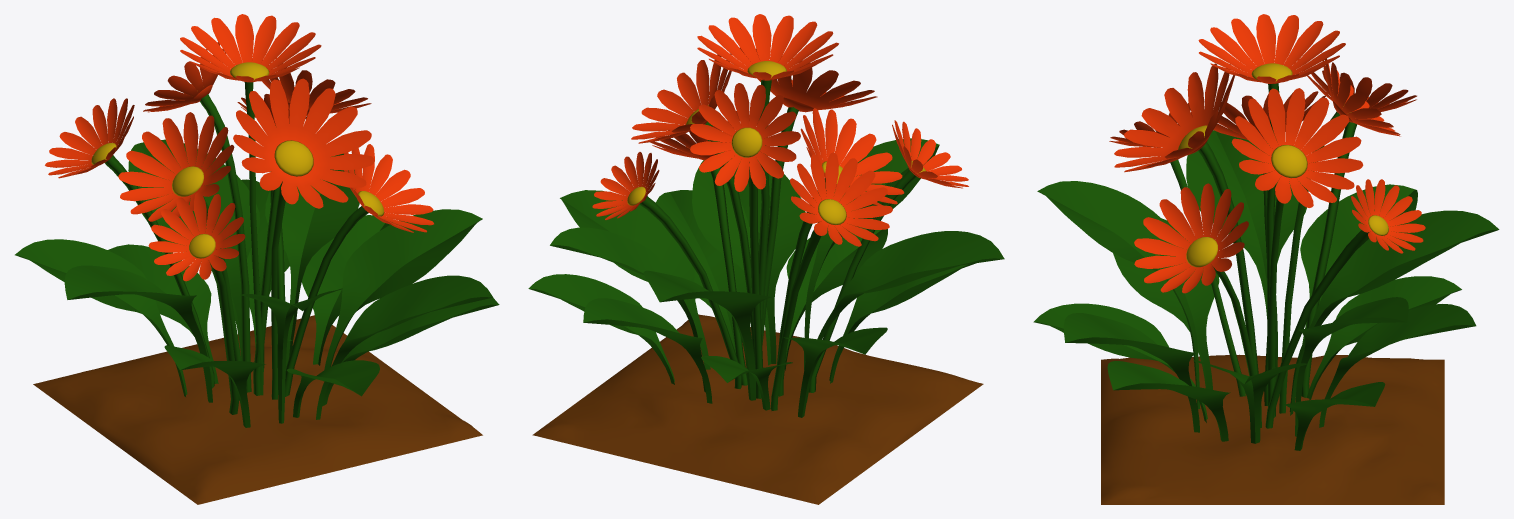
File: orange-daisy.glb
3 renders of one model, left to right at view 1: azimuth 30°, elevation 25°; view 2: azimuth 150°, elevation 25°; view 3: azimuth 270°, elevation 25°, orthographic. The views are drawn at different scales.
Parts seen in each view (by area): view 1: 4_nft_bloom; view 2: 4_nft_bloom; view 3: 4_nft_bloom.
Part boxes in pixels (x1,y1,x2,y2): 4_nft_bloom: [15, 14, 499, 504]; 4_nft_bloom: [528, 14, 1004, 504]; 4_nft_bloom: [1033, 14, 1499, 504].
Size of the model in its own units: 1.05 by 0.8627 by 0.9501.
